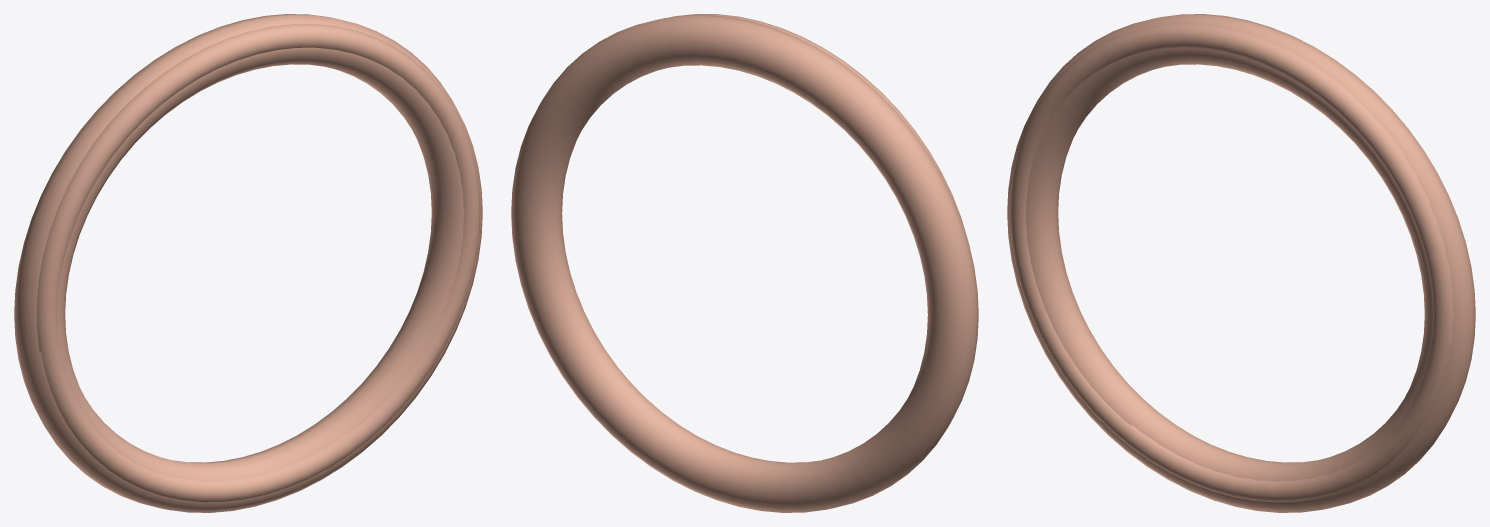
3 views of the same model, side by side, from view 1: azimuth 30°, elevation 25°; view 2: azimuth 150°, elevation 25°; view 3: azimuth 330°, elevation 25° (orthographic).
Bounding box in the file's own units: 1.88 × 1.88 × 0.188.
